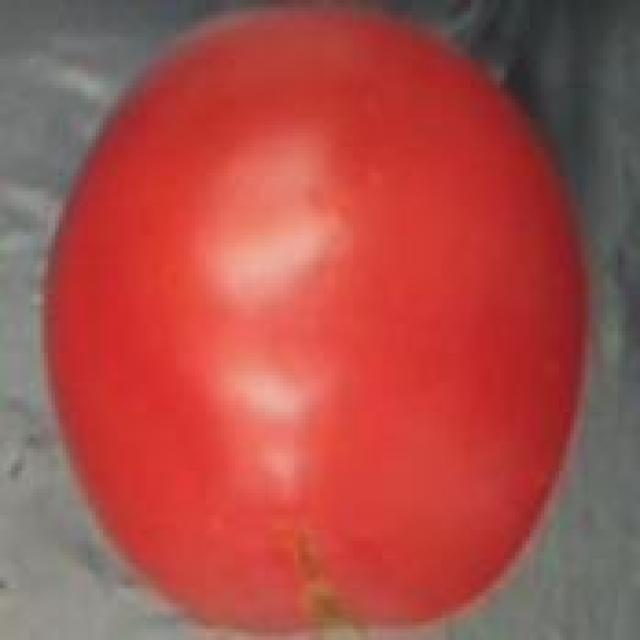ripe tomato: (33, 3, 599, 640)
